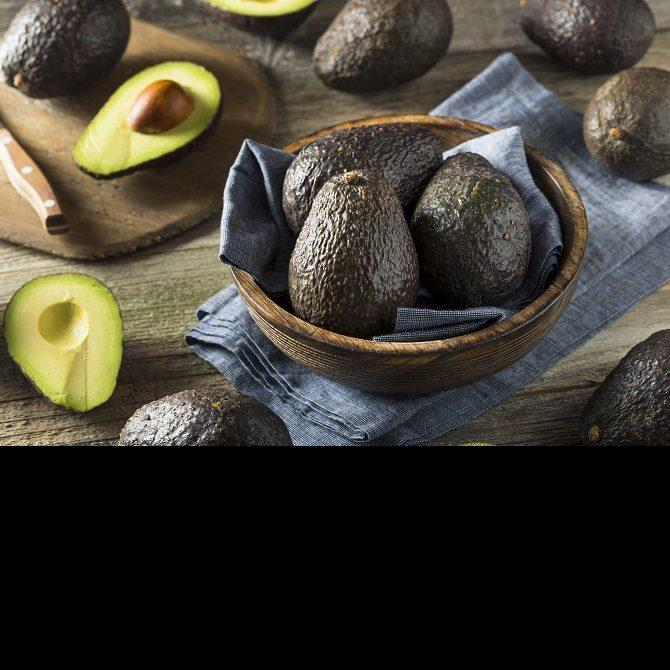ripe: (288, 169, 418, 336), (411, 152, 532, 308), (281, 123, 444, 236), (312, 1, 453, 92), (3, 1, 130, 99), (578, 327, 669, 446), (582, 67, 670, 182), (118, 387, 293, 444), (519, 1, 655, 72)
